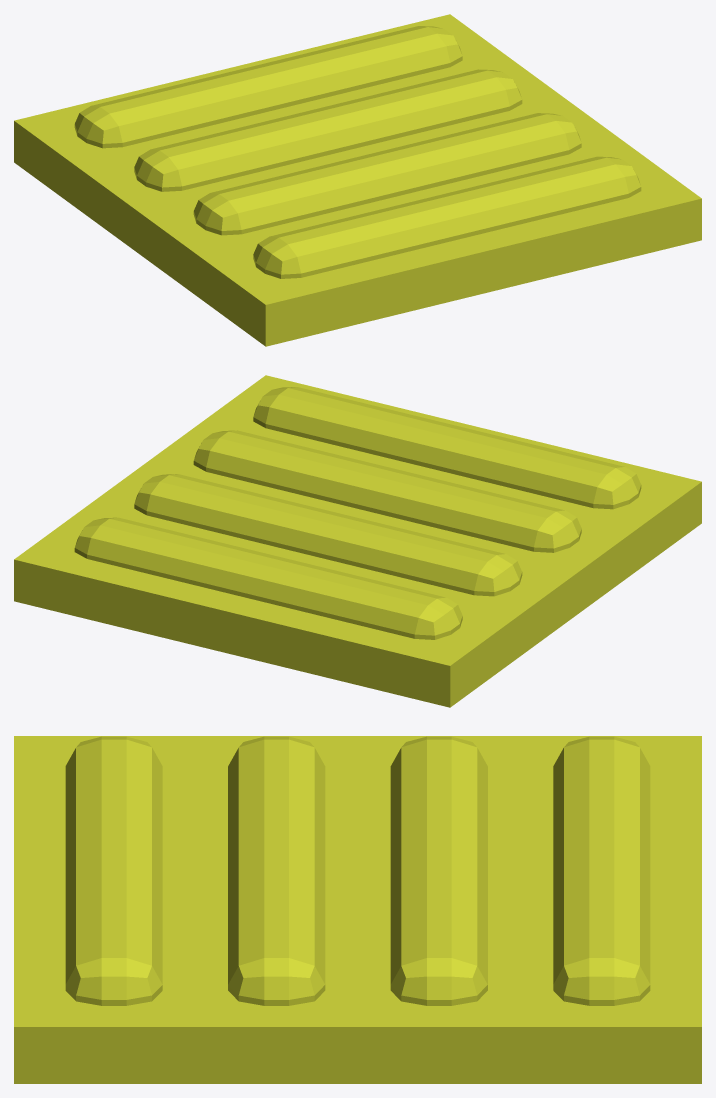
The model's file is BraillieBlockGo.glb.
3 renders of one model, top to bottom at view 1: azimuth 30°, elevation 25°; view 2: azimuth 150°, elevation 25°; view 3: azimuth 270°, elevation 25°, orthographic. The views are drawn at different scales.
Parts seen in each view (by area): view 1: StopBraillieBlock.Geo; view 2: StopBraillieBlock.Geo; view 3: StopBraillieBlock.Geo.
Boxes of the visible parts, box(x1,y1,x2,y2) form: StopBraillieBlock.Geo: box(14, 14, 701, 346); StopBraillieBlock.Geo: box(14, 375, 701, 707); StopBraillieBlock.Geo: box(14, 736, 701, 1083).
Bounding box in the file's own units: 2 × 0.2879 × 2.
